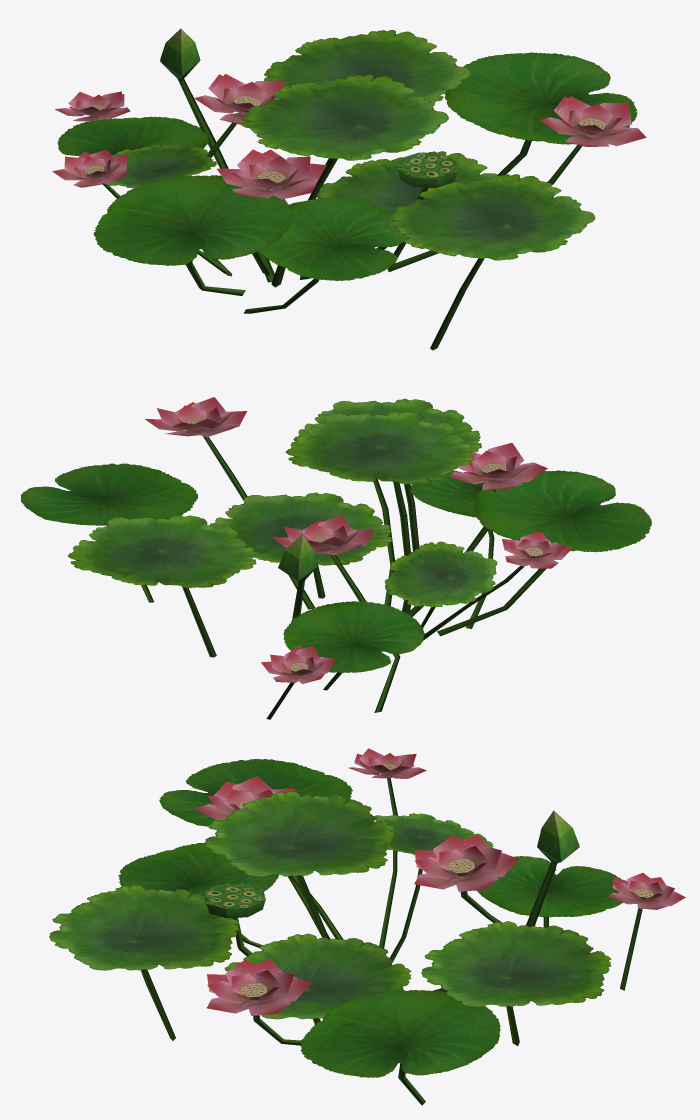
3 views of the same model, one above another, from view 1: azimuth 30°, elevation 25°; view 2: azimuth 150°, elevation 25°; view 3: azimuth 270°, elevation 25° (orthographic). The views are drawn at different scales.
Parts seen in each view (by area): view 1: Stuff_50101_605081; view 2: Stuff_50101_605081; view 3: Stuff_50101_605081.
Boxes of the visible parts, <box> form: Stuff_50101_605081: <box>52,28,646,350</box>; Stuff_50101_605081: <box>21,397,651,719</box>; Stuff_50101_605081: <box>49,748,685,1105</box>.
Size of the model in its own units: 821 by 238 by 730.
